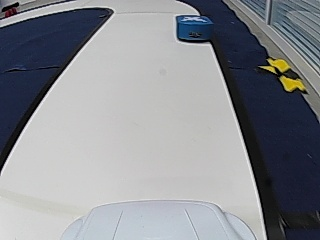prop: (177, 16, 214, 43)
